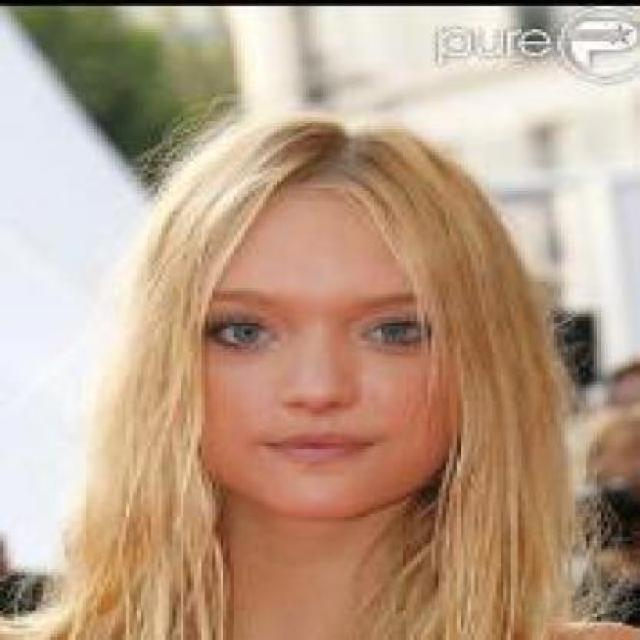closed-mouth: (256, 426, 370, 463)
